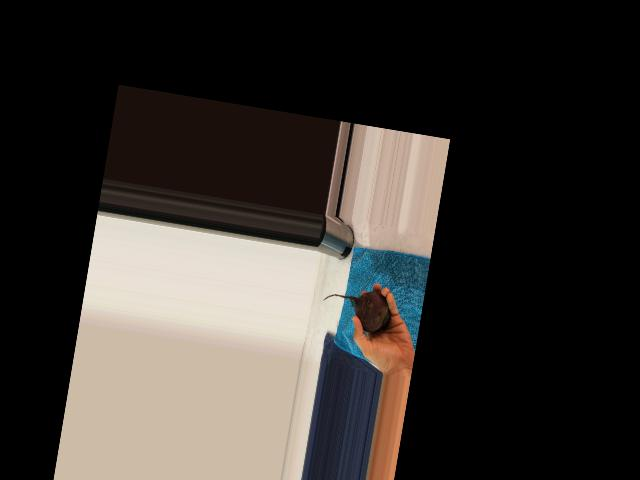beet: (319, 282, 395, 335)
